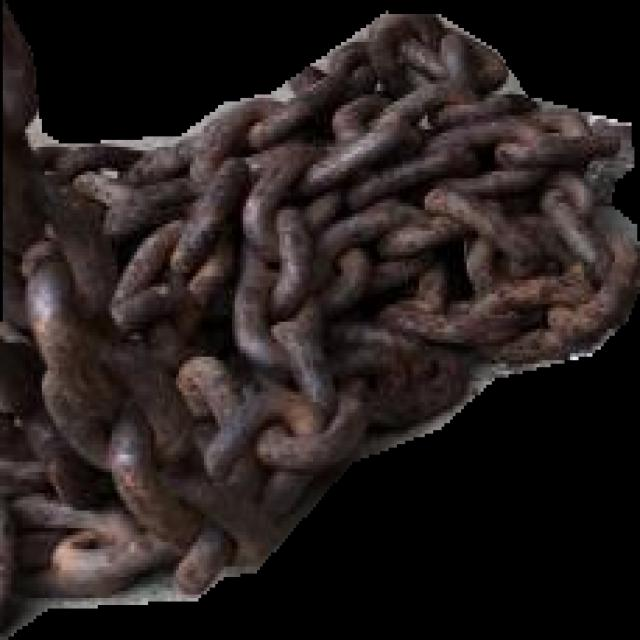Uniform Corrosion: (0, 0, 640, 640)
